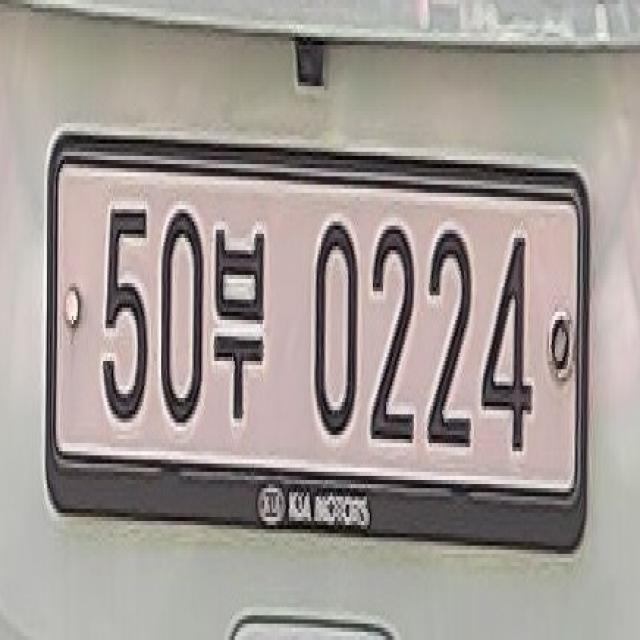0: (158, 198, 208, 442), (310, 214, 362, 447)
2: (426, 207, 476, 472), (370, 206, 418, 456)
4: (481, 218, 541, 460)
5: (97, 194, 153, 440)
bu: (209, 204, 279, 447)
license_plate: (34, 119, 598, 562)
